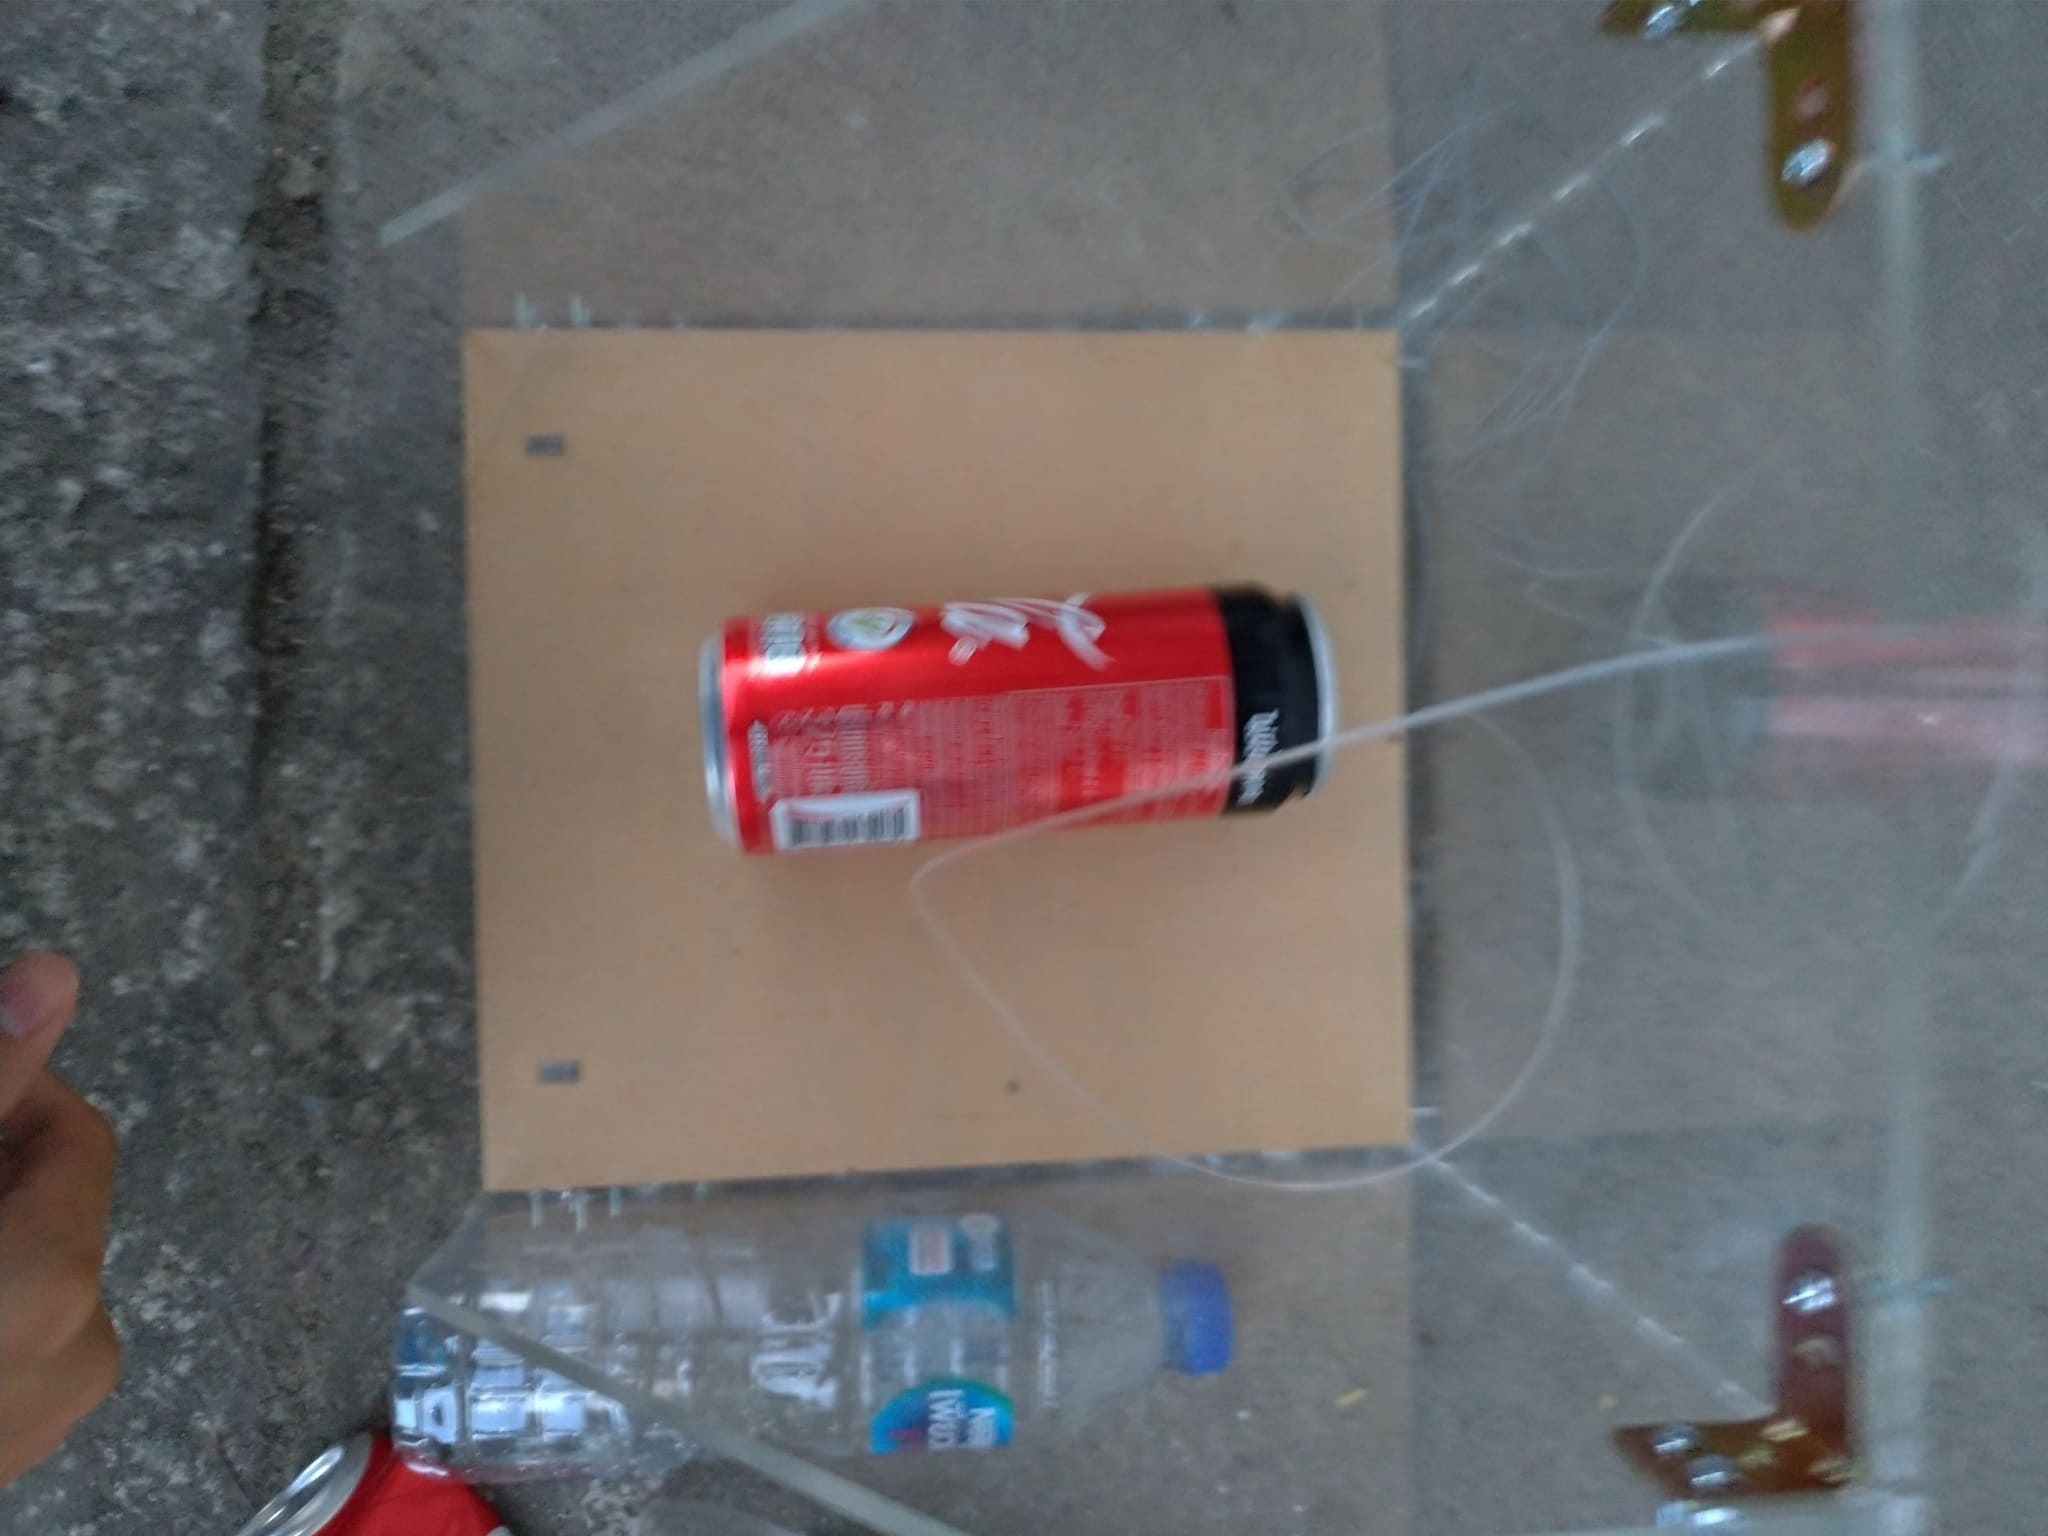AlCan: (698, 581, 1334, 862)
PlasticBottle: (398, 1217, 1229, 1454)
